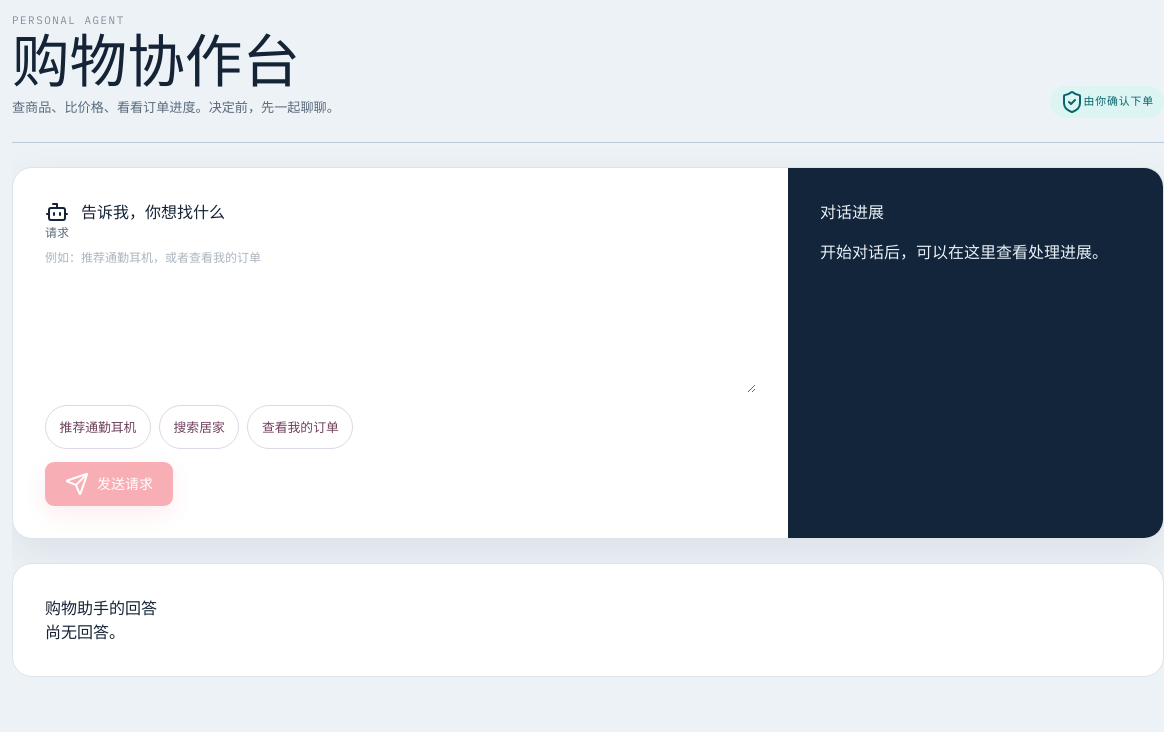
Test case: Agent request lifecycle › cancels a run whose creation response arrives after the user cancels
Type "创建阶段取消" into the text box labelled "请求" at coordinates (400, 321), box [45,249,756,393]
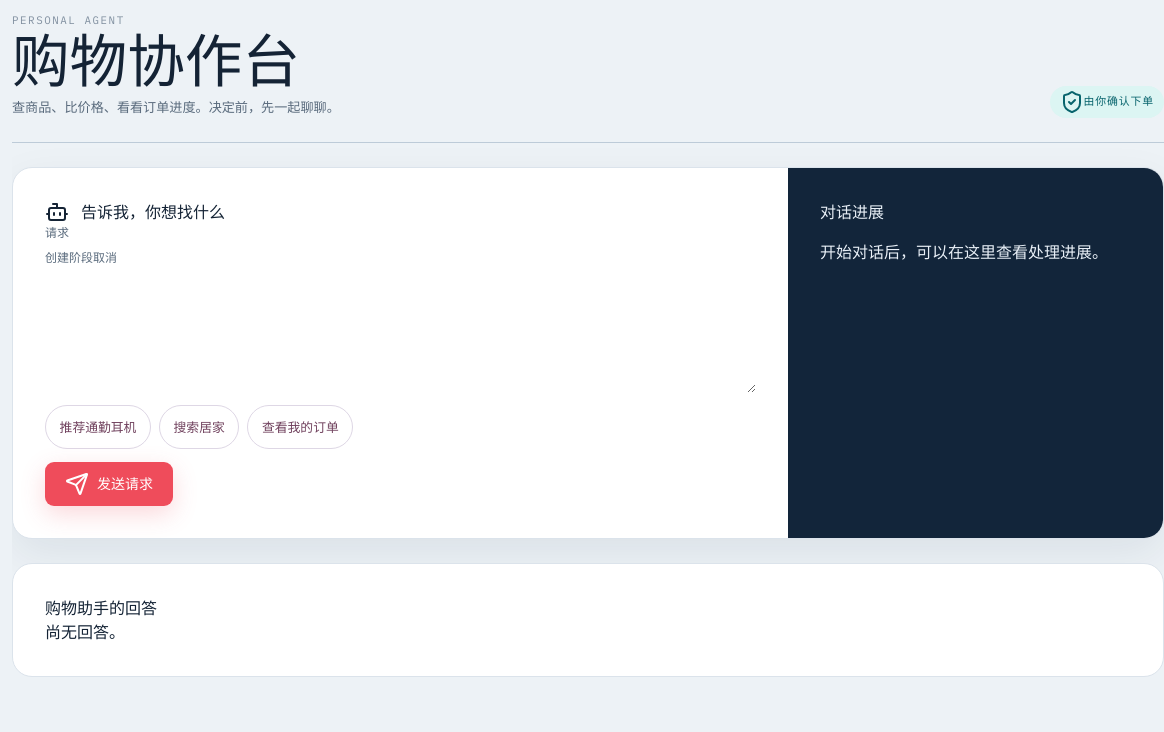
Click the button "发送请求" at coordinates (109, 484), box [45,462,173,506]
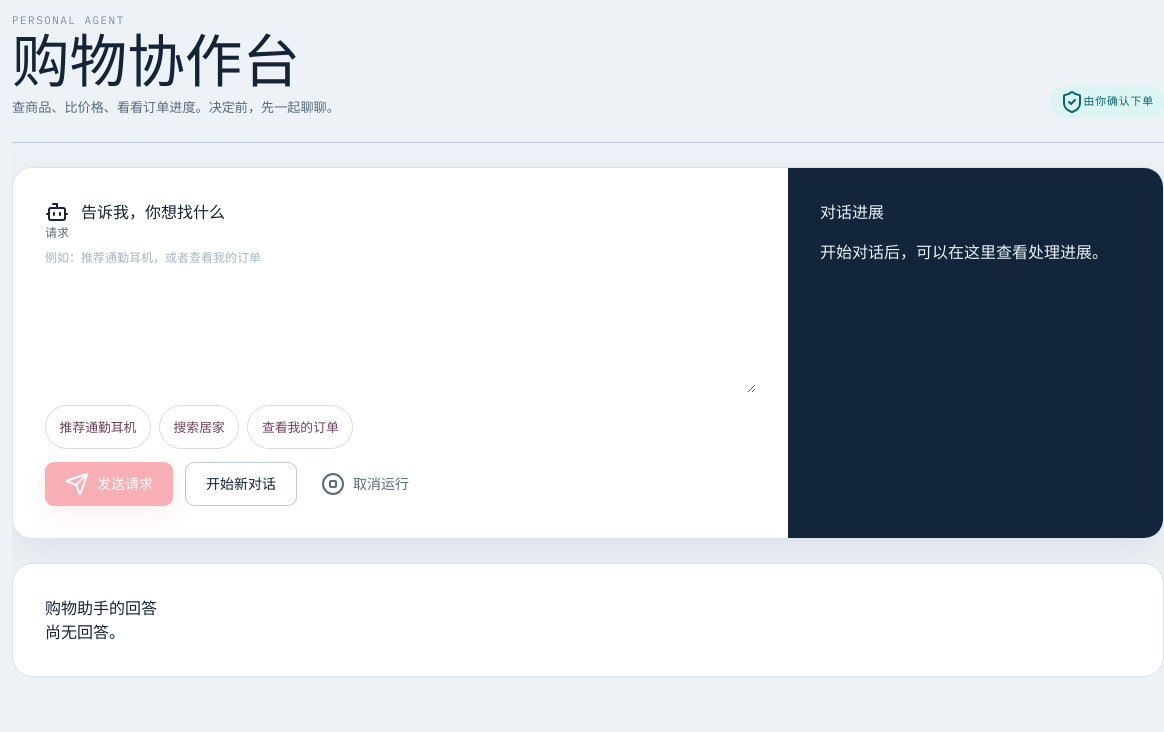
Click the button "取消运行" at coordinates (365, 484), box [309,462,421,506]
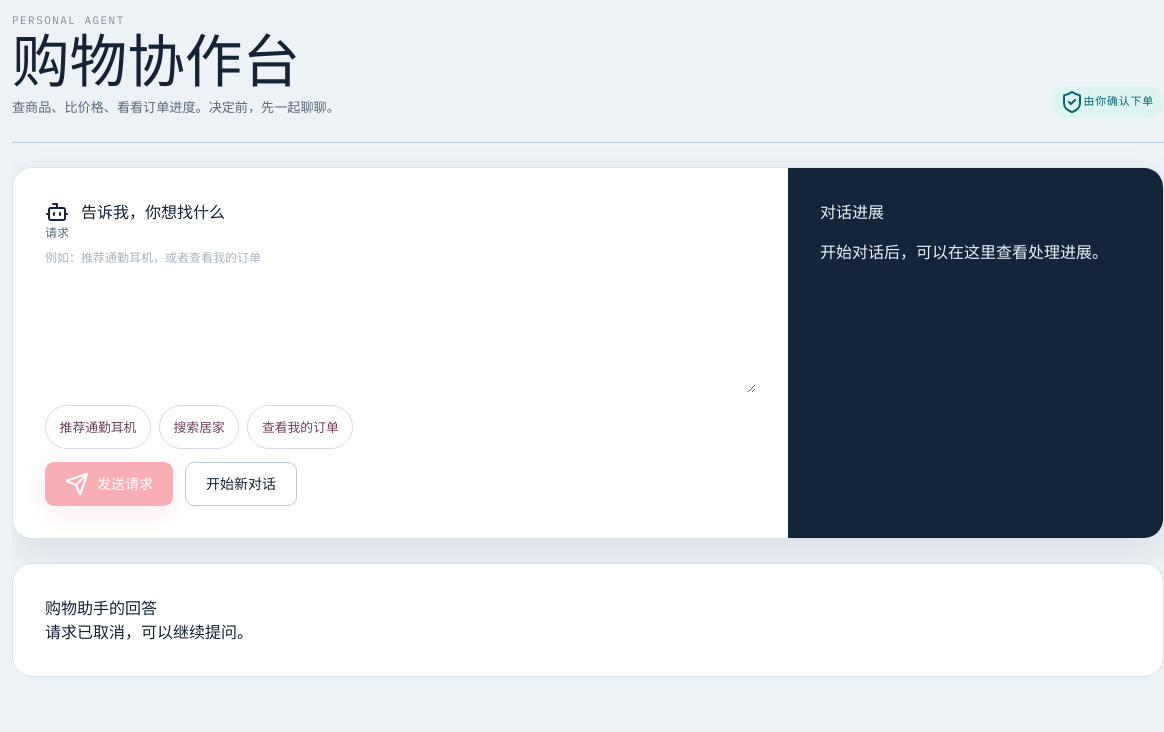
Check: the text "请求已取消，可以继续提问。" is shown, box [45,621,253,643]
